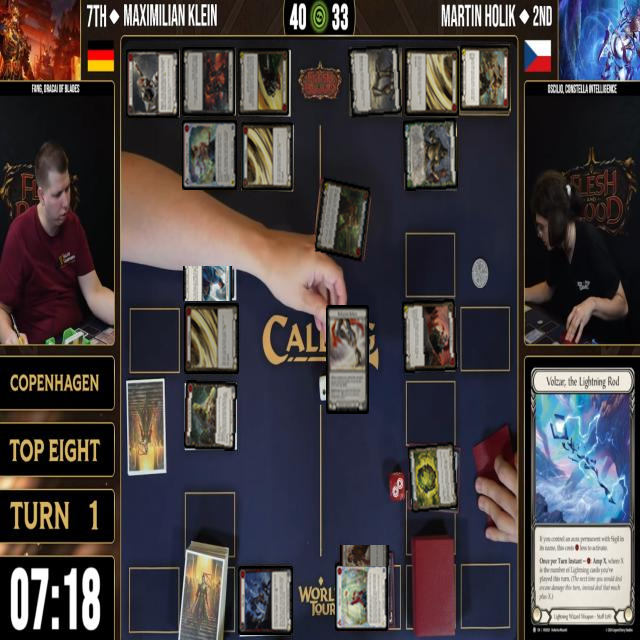Awakening_Bellow_WTR032: (184, 381, 238, 452)
Crippling_Crush_WTR043: (182, 121, 238, 191)
Flic_Flak_WTR092: (238, 567, 294, 636)
Heart_of_Fyendal_WTR000: (408, 441, 460, 515)
Ironrot_Legs_WTR158: (349, 45, 403, 119)
Ironsong_Response_WTR132: (127, 50, 180, 119)
Nimble_Strike_WTR186: (238, 48, 291, 118)
Nimblism_WTR218: (184, 303, 239, 375)
Nimblism_WTR219: (405, 49, 459, 117)
Nimblism_WTR220: (240, 122, 295, 193)
Refraction_Bolters_WTR117: (327, 306, 370, 414)
Rhinar_WTR002: (403, 119, 459, 192)
Scar_for_a_Scar_WTR191: (459, 45, 512, 113)
Show_Time!_WTR047: (335, 563, 389, 632)
Snapdragon_Scalers_WTR154: (182, 48, 236, 117)
Snatch_WTR167: (341, 545, 394, 566)
Whelming_Gustwave_WTR112: (184, 267, 237, 302)
Wounded_Bull_WTR202: (314, 177, 372, 263)
Wounding_Blow_WTR203: (402, 299, 458, 374)
